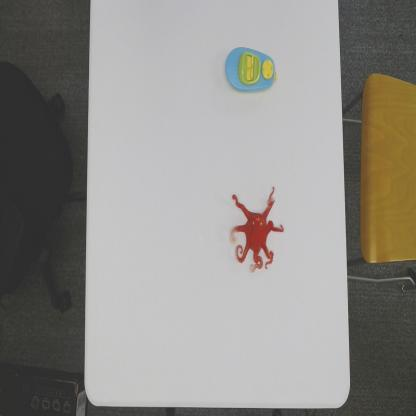Octopus: (229, 184, 285, 274), (224, 44, 279, 98)
